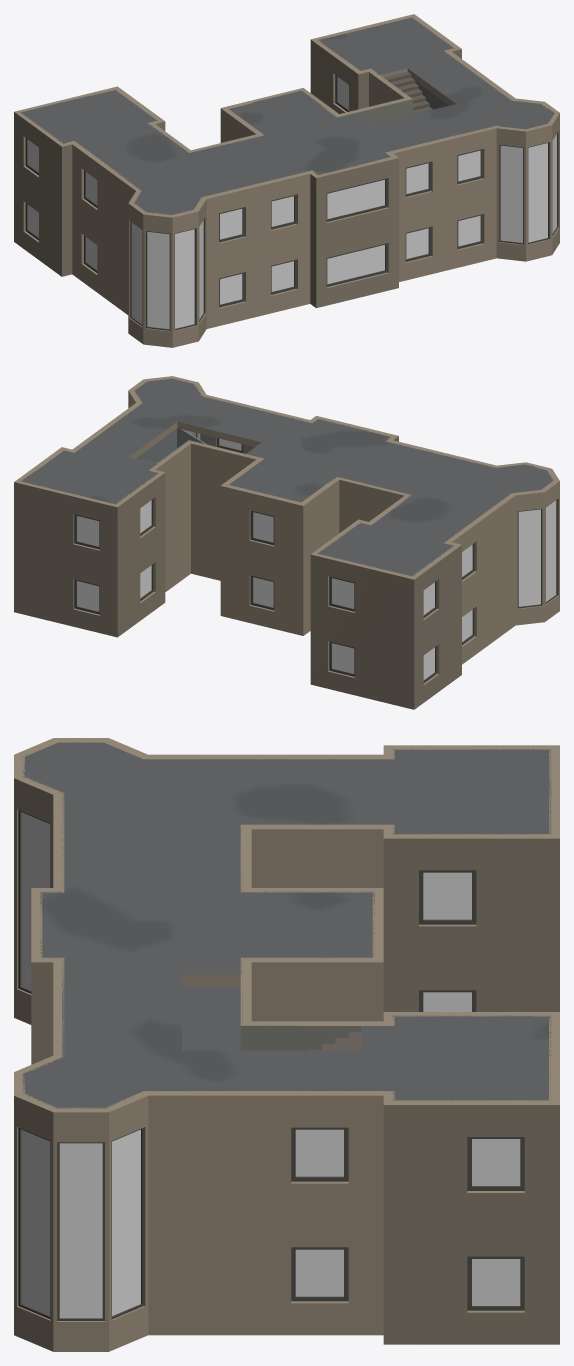
The model's file is SM_Bldg_City_Commercial_03_Mid.fbx.
3 views of the same model, one above another, from view 1: azimuth 30°, elevation 25°; view 2: azimuth 150°, elevation 25°; view 3: azimuth 270°, elevation 25° (orthographic). The views are drawn at different scales.
Visible parts, largest first — view 1: SM_Bldg_City_Commercial_03_Mid, SM_Bldg_City_Commercial_03_Mid_Glass; view 2: SM_Bldg_City_Commercial_03_Mid, SM_Bldg_City_Commercial_03_Mid_Glass; view 3: SM_Bldg_City_Commercial_03_Mid, SM_Bldg_City_Commercial_03_Mid_Glass.
Boxes of the visible parts, x1,y1,x2,y2 form: SM_Bldg_City_Commercial_03_Mid: (14, 14, 559, 347); SM_Bldg_City_Commercial_03_Mid_Glass: (27, 77, 556, 329); SM_Bldg_City_Commercial_03_Mid: (14, 376, 559, 709); SM_Bldg_City_Commercial_03_Mid_Glass: (77, 430, 556, 679); SM_Bldg_City_Commercial_03_Mid: (14, 738, 559, 1351); SM_Bldg_City_Commercial_03_Mid_Glass: (21, 812, 520, 1318).
Bounding box in the file's own units: 2010 × 601 × 1239.
